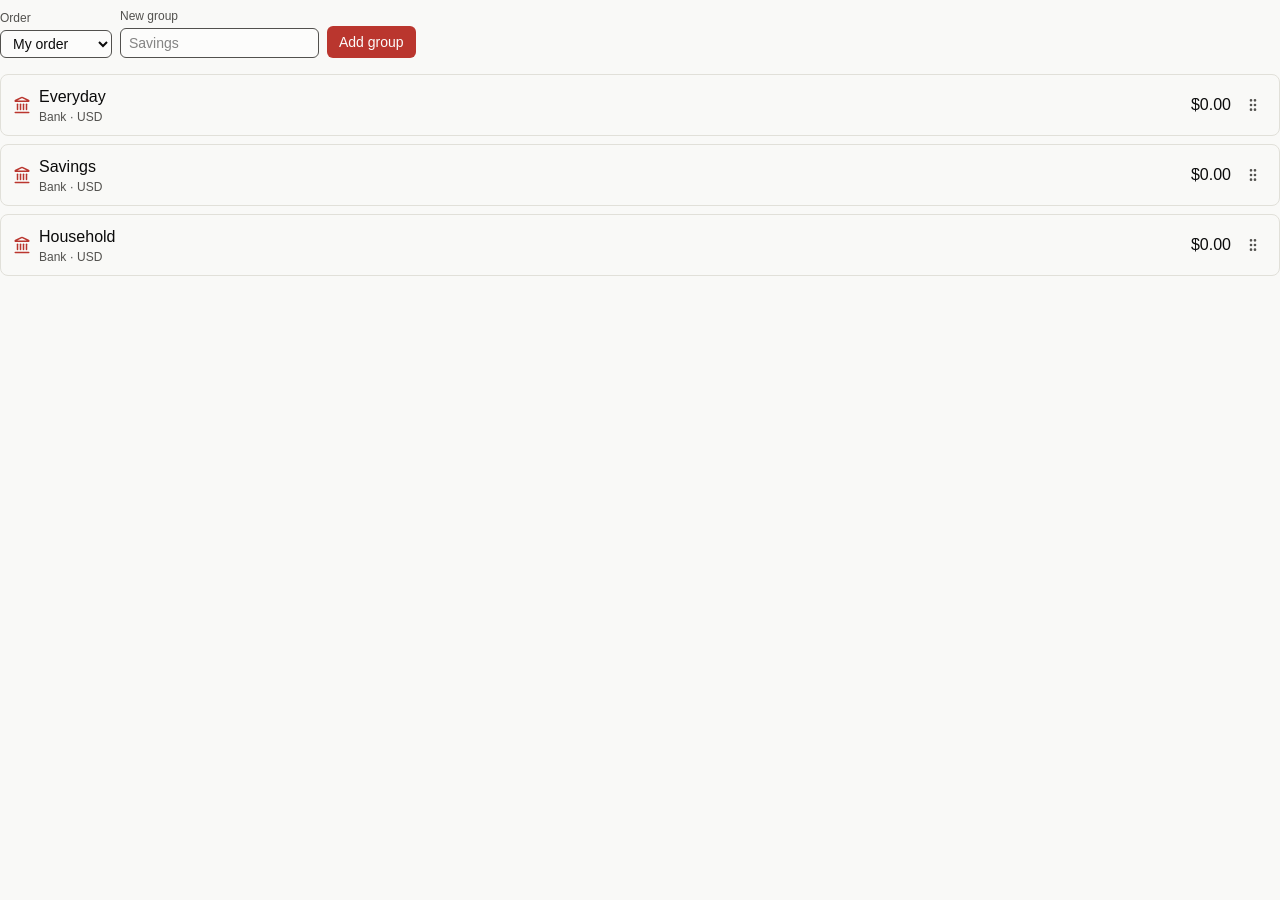
WalletList › enables Archive once the user owns a second wallet, shared wallets aside
Press the mouse on the list item "Everyday" at (640, 105), box top-left (0, 74), bottom-right (1279, 136)
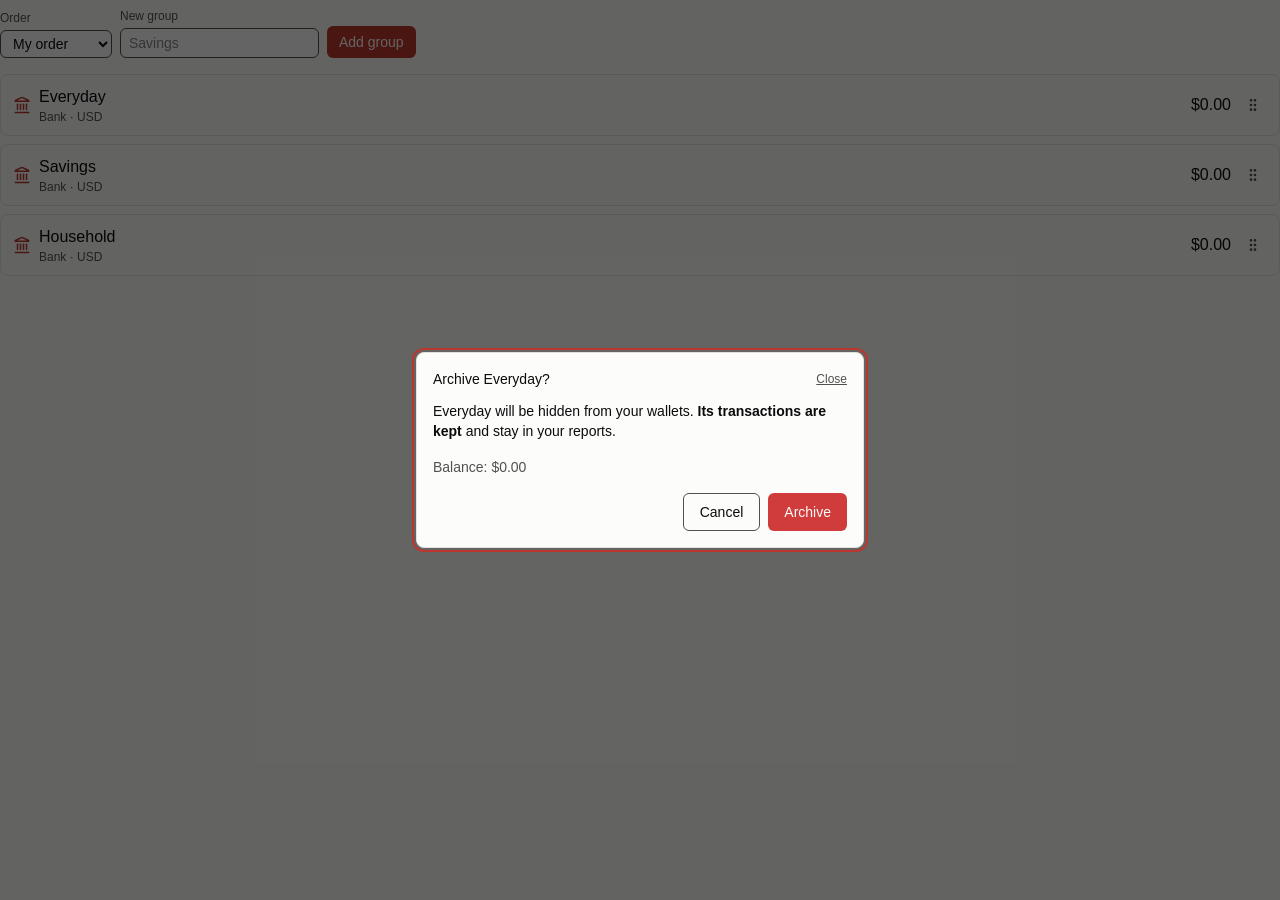
Result: the dialog "Archive Everyday?" is shown at top-left (416, 352), bottom-right (864, 548)
